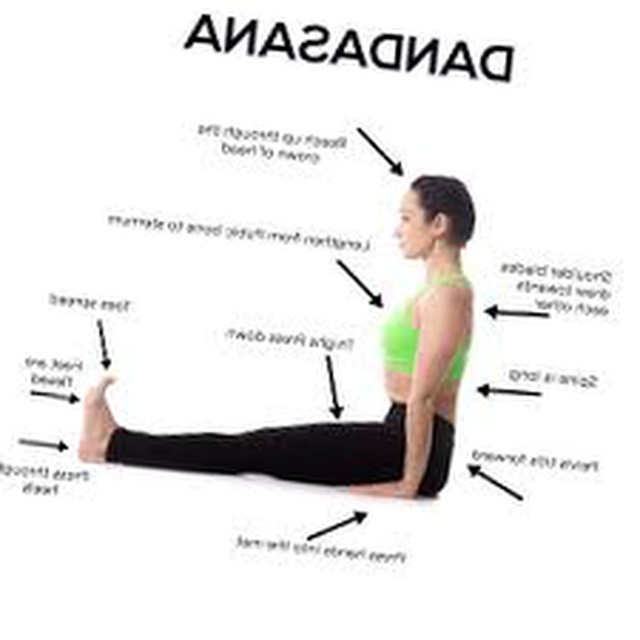Staff_Pose: (77, 172, 475, 498)
